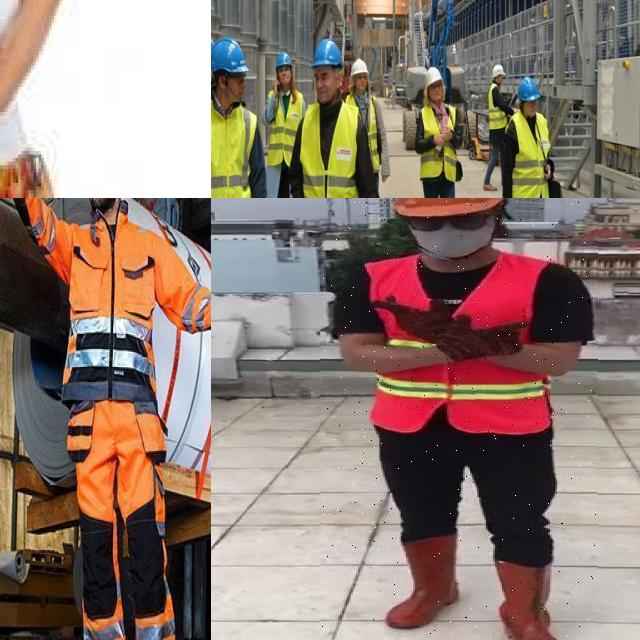boots: (387, 535, 463, 629), (494, 557, 567, 640)
face_nomask: (218, 76, 249, 113), (314, 67, 342, 104), (276, 62, 294, 90), (430, 81, 446, 106), (356, 74, 370, 95)
hand_noglove: (432, 126, 452, 154)
head_helmet: (388, 198, 514, 219), (211, 37, 250, 76), (311, 39, 344, 70), (516, 76, 541, 102), (424, 62, 444, 86), (273, 50, 293, 68), (350, 59, 371, 76), (490, 62, 506, 78)
person: (320, 198, 598, 640), (0, 198, 211, 640), (293, 38, 369, 198), (211, 32, 266, 198), (261, 49, 306, 198), (413, 67, 463, 198), (503, 78, 553, 198), (348, 61, 388, 178), (484, 65, 514, 192)
vest: (360, 257, 554, 435), (63, 222, 161, 407), (300, 98, 367, 198), (211, 104, 261, 198), (506, 111, 552, 198), (344, 91, 386, 166), (419, 106, 458, 182), (262, 85, 300, 161), (488, 84, 508, 129)
